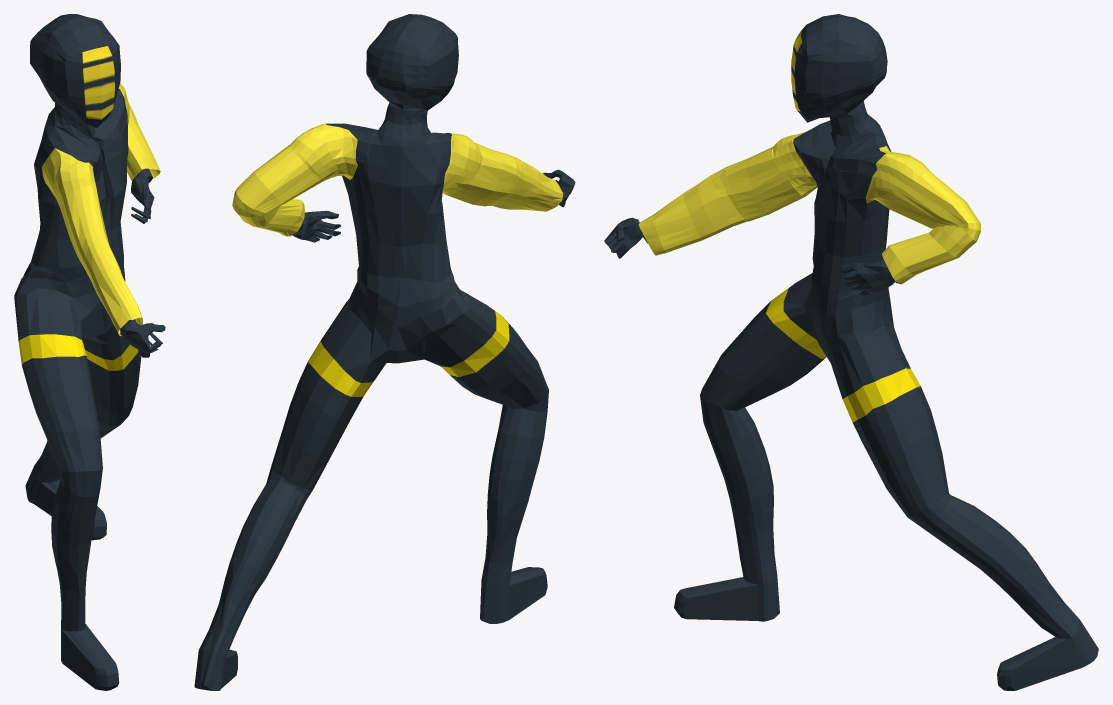
File: Sentry_WR_000016.obj
The picture shows the model from 3 angles, left to right: view 1: azimuth 30°, elevation 25°; view 2: azimuth 150°, elevation 25°; view 3: azimuth 270°, elevation 25°; orthographic projection. The views are drawn at different scales.
Visible parts, largest first — view 1: Cube; view 2: Cube; view 3: Cube.
Part boxes in pixels (x1,y1,x2,y2): Cube: (14, 14, 165, 690); Cube: (194, 14, 575, 690); Cube: (604, 14, 1098, 690).
Size of the model in its own units: 1.18 by 3.6 by 2.6.
